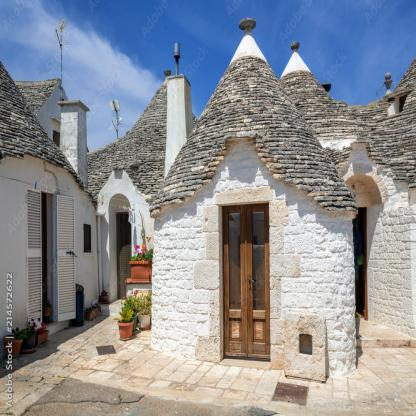Building Outline: (149, 17, 359, 378)
Dont: (284, 311, 327, 383)
Door: (221, 203, 270, 362)
Door Hole: (218, 201, 271, 366)
Facade: (166, 189, 354, 374)
Ground Floor: (150, 190, 354, 374)
Roof: (149, 18, 359, 219)
